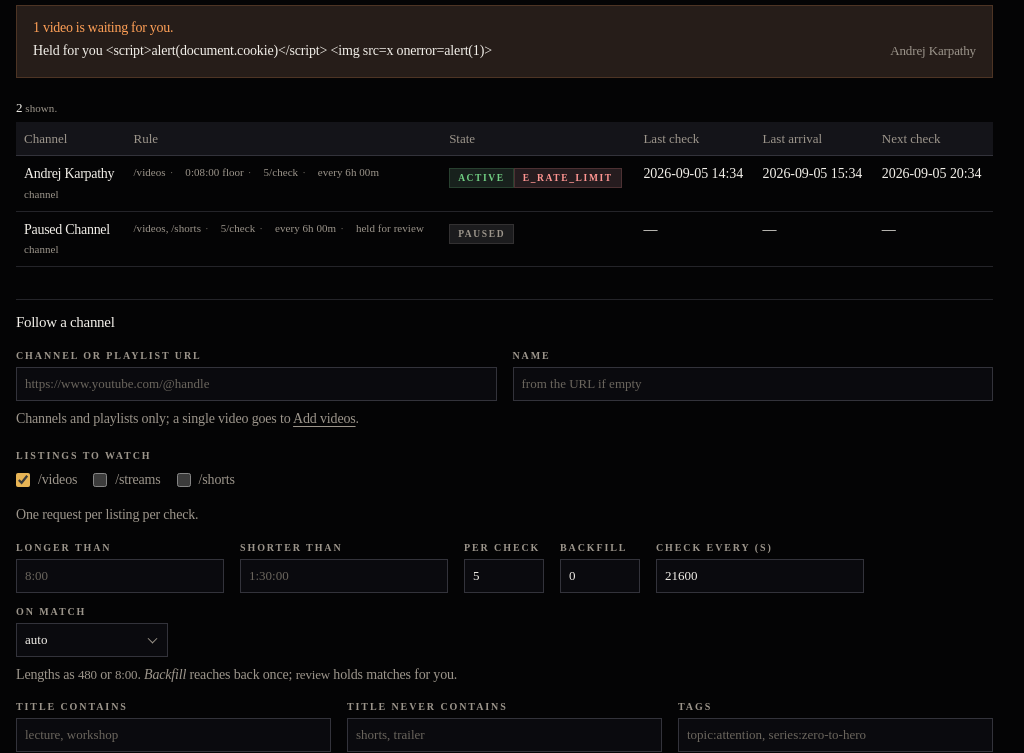
Test: the follows table › the add form › says when nothing was made because the URL was already followed
The image size is (1024, 753).
(page scrolled)
Type "https://www.youtube.com/@karpathy" into the field labelled "Channel or playlist URL". click: (256,384)
box: [16,367,496,401]
(page scrolled)
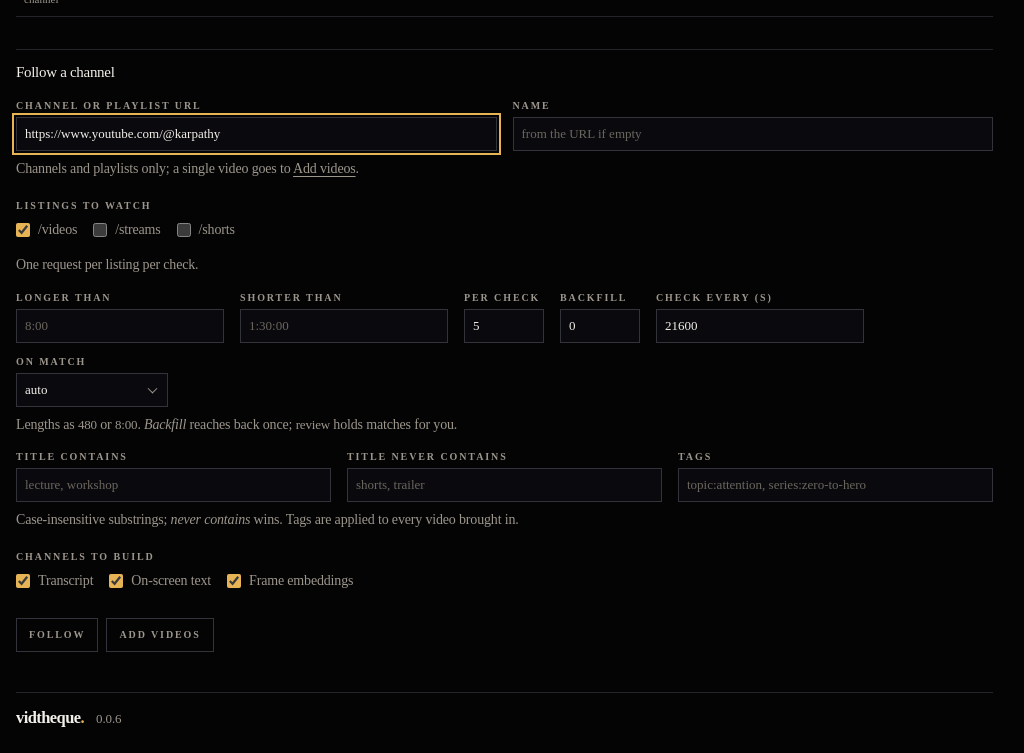
Click the button "Follow". click: (57,635)
box: [16,618,98,652]
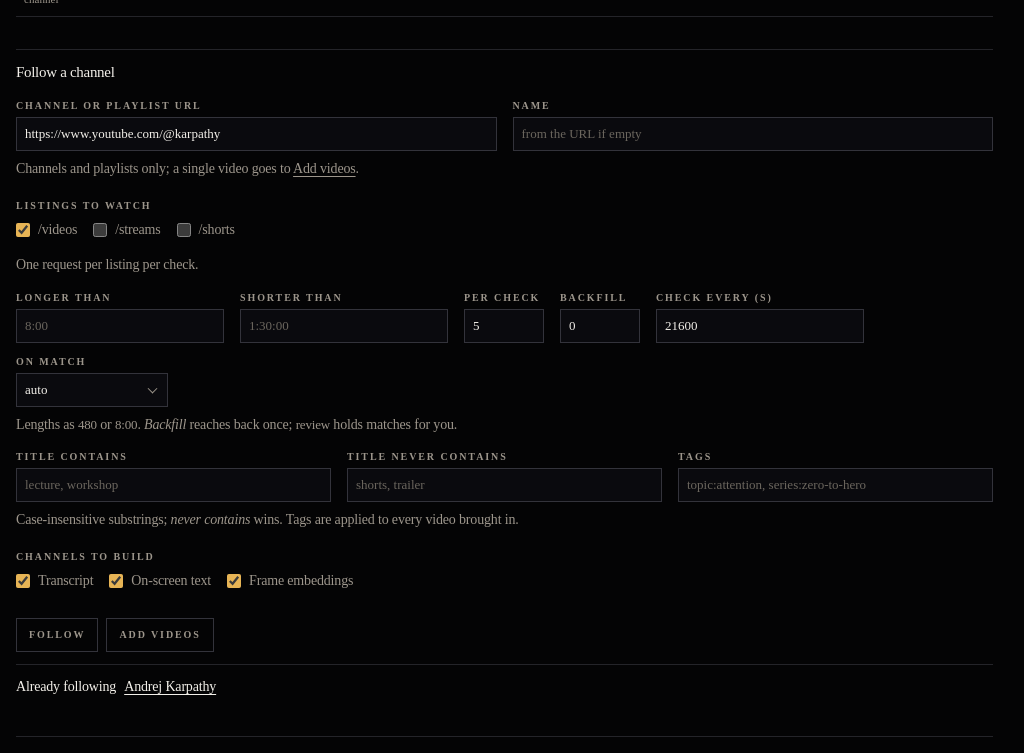
Expected: the text "Already following" is shown, [16,677,116,696]
